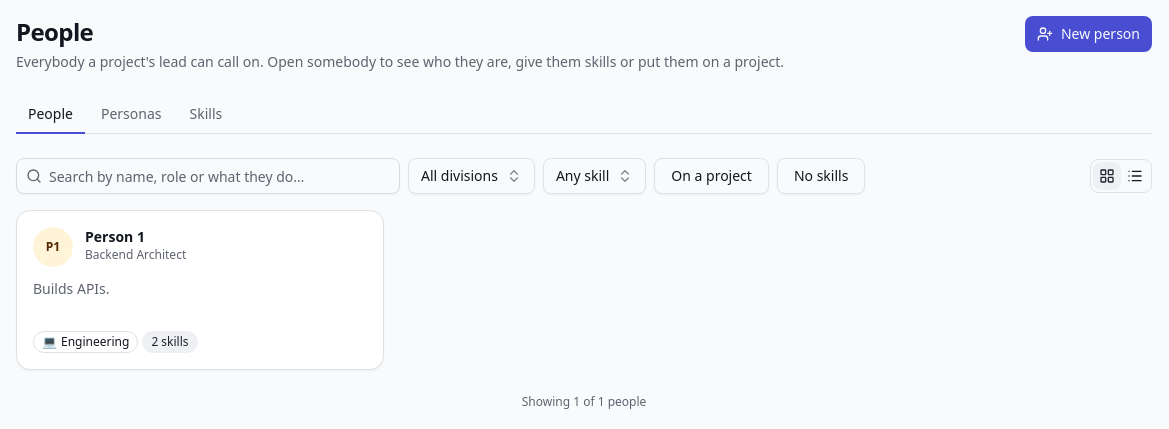
People: the list › says nobody matches and offers to clear, and draws the dense list on request
The width and height of the screenshot is (1169, 429).
Click the button with test id "people-view-list": point(1135, 176) [1121, 162, 1149, 190]
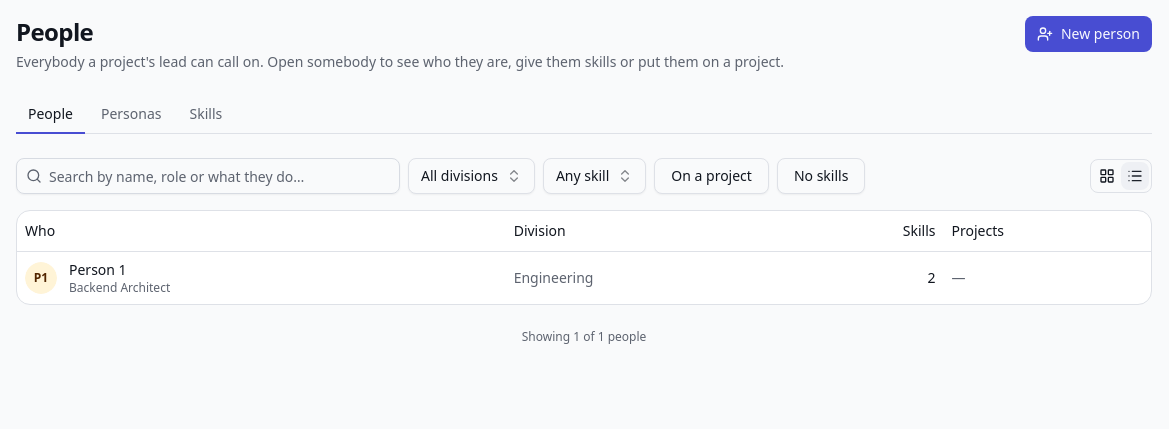
Expected: the number of rows with test id "person-row" is 1, [17, 251, 1151, 304]
Click the button with test id "people-on-roster": point(712, 176) [654, 158, 769, 194]
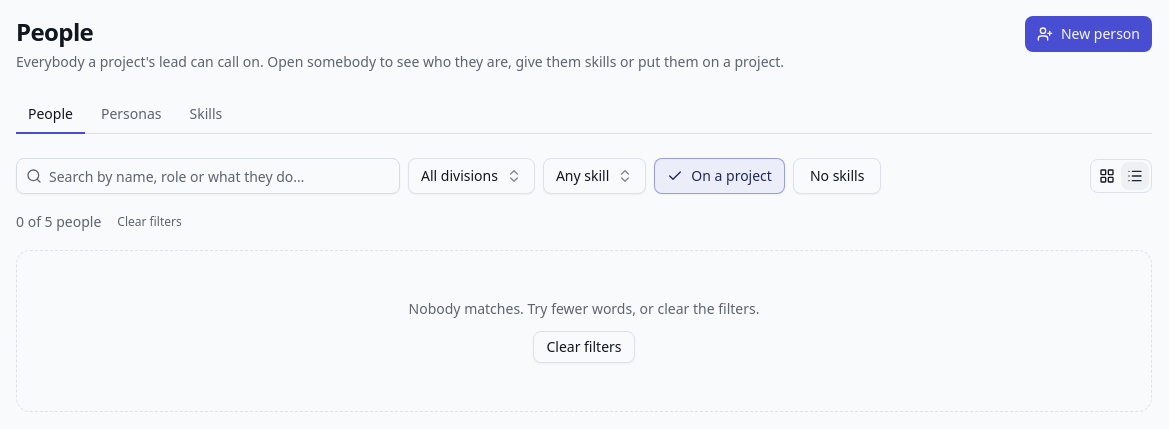
Expected: the element with test id "people-none" shows "Nobody matches", [408, 299, 759, 318]
